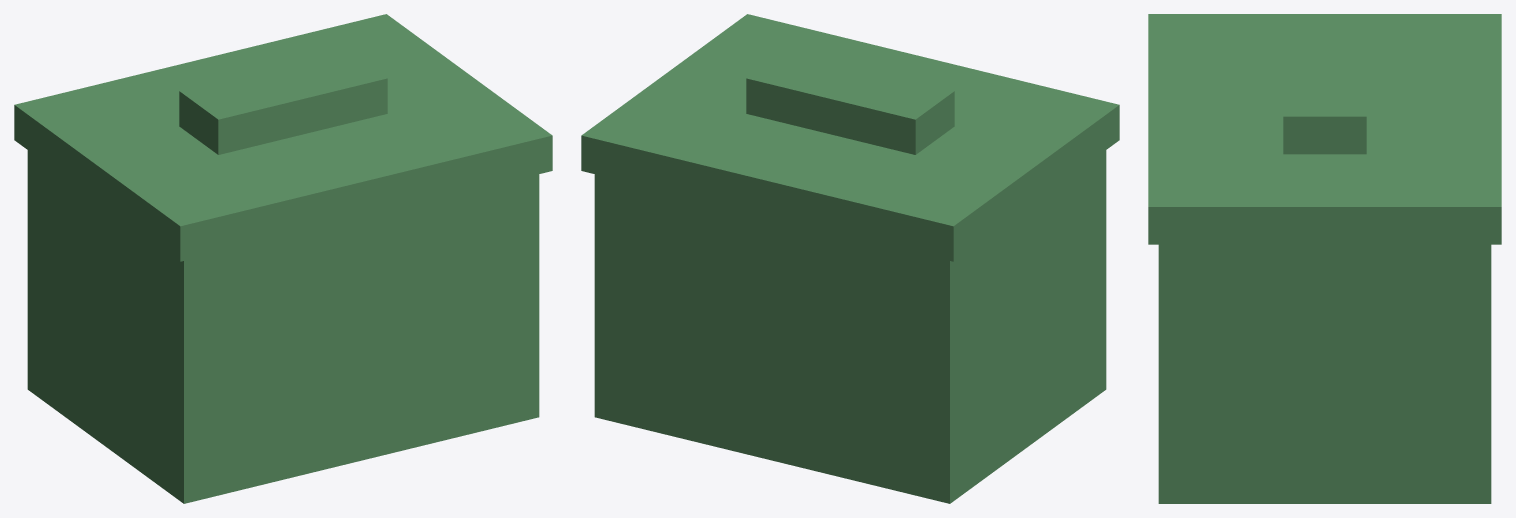
Rendered from product_pickle_carton.glb.
3 renders of one model, left to right at view 1: azimuth 30°, elevation 25°; view 2: azimuth 150°, elevation 25°; view 3: azimuth 270°, elevation 25°, orthographic. The views are drawn at different scales.
Visible parts, largest first — view 1: ProductArt_body; view 2: ProductArt_body; view 3: ProductArt_body.
Part boxes in pixels (x1,y1,x2,y2): ProductArt_body: (14,14,552,503); ProductArt_body: (581,14,1119,503); ProductArt_body: (1148,14,1501,503).
Bounding box in the file's own units: 0.24 × 0.1964 × 0.1855.
